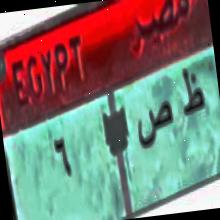6: (50, 132, 75, 188)
Thaa: (176, 64, 208, 123)
saad: (132, 96, 178, 158)
